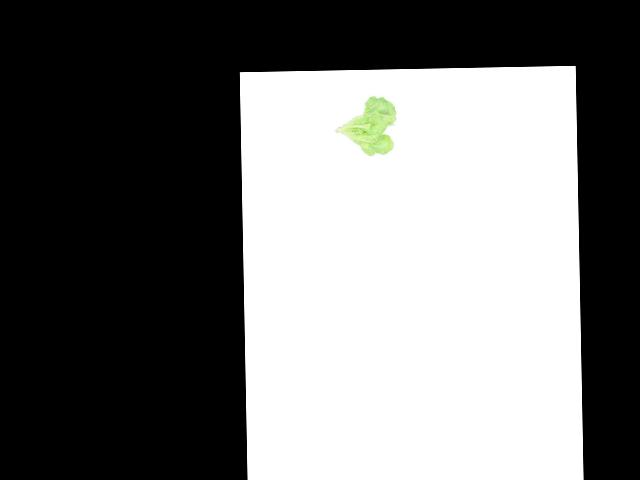lettuce: (333, 92, 400, 158)
